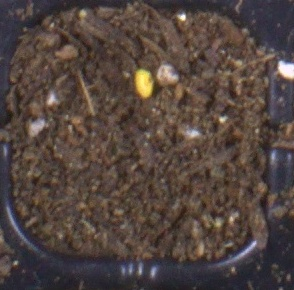chilli seed: (134, 67, 154, 99)
